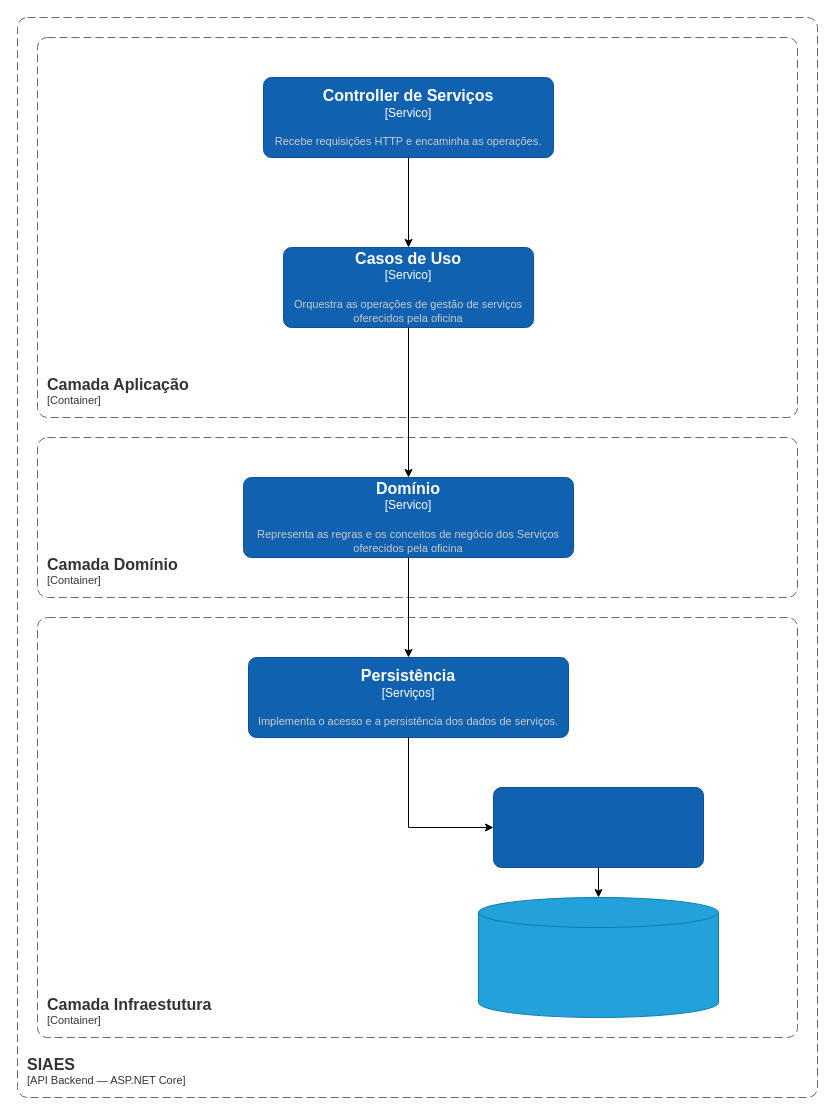
Some shapes in this 835 by 1115 pixel diagram are drawn without their labels. Here are the shapes that lost their labels. From the top down, the centre of each, then its label:
At [598,827]: "Entity Framework Core [Entity Framework] Mapeamento objeto-relacional (ORM)".
At [598,957]: "SIAES_DB [Container: PostgreSQL 16] Banco de dados relacional do sistema SIAES".
